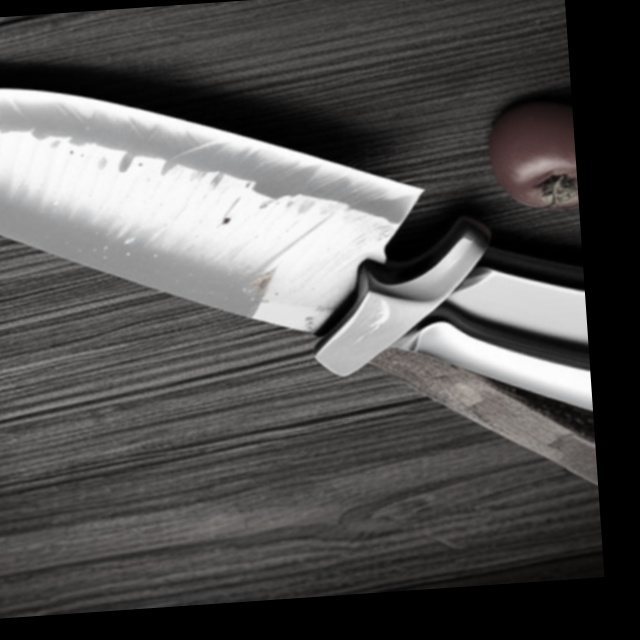Sharp-Object: (0, 39, 594, 466)
